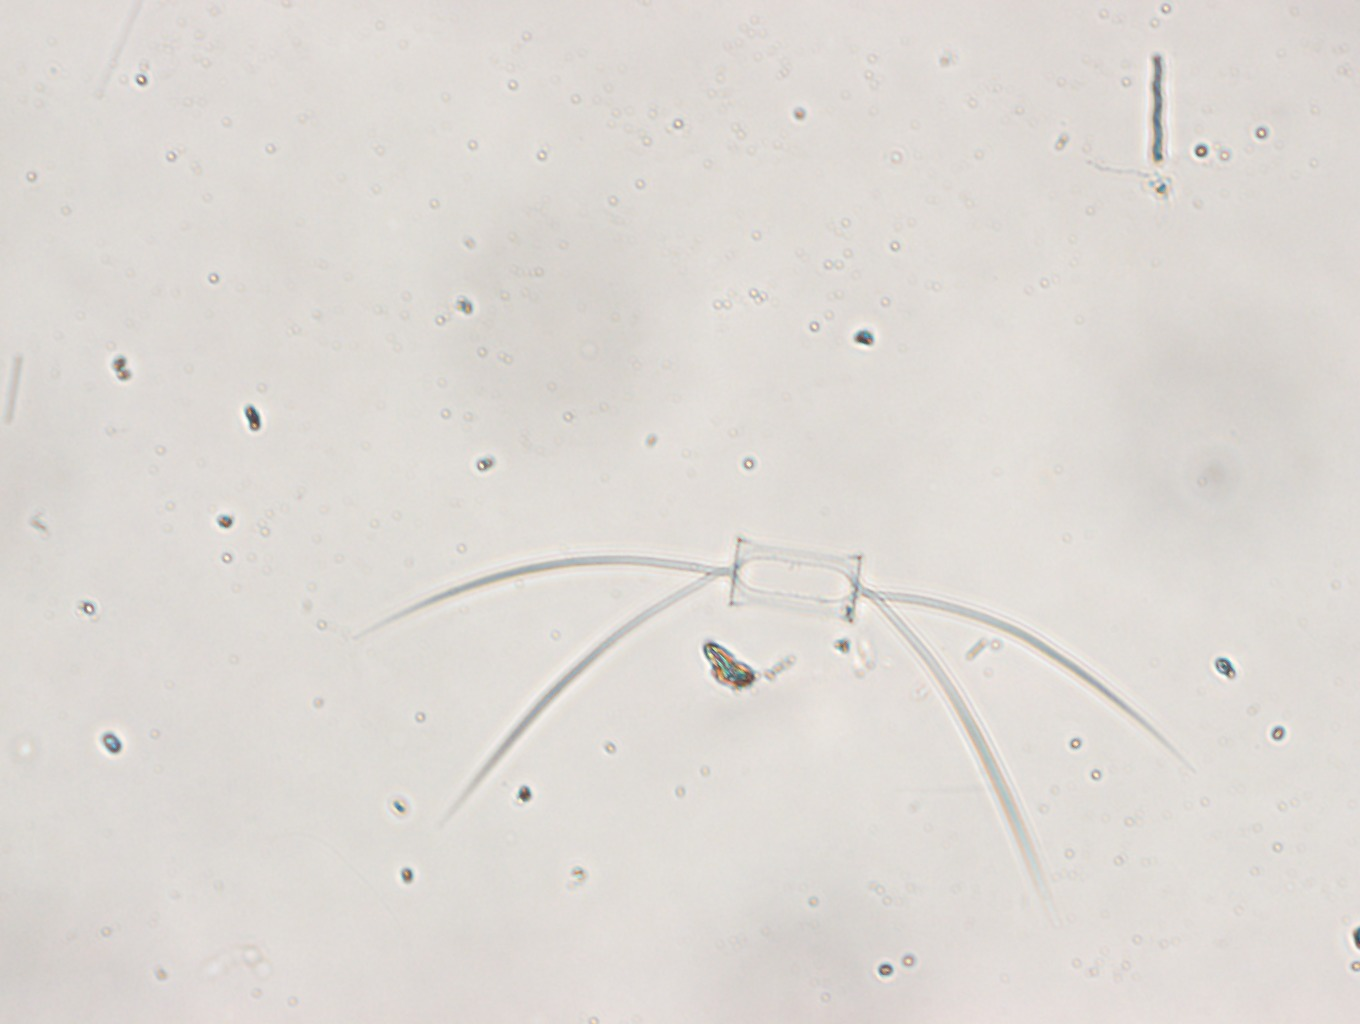chaetoceros: (361, 534, 1186, 910)
